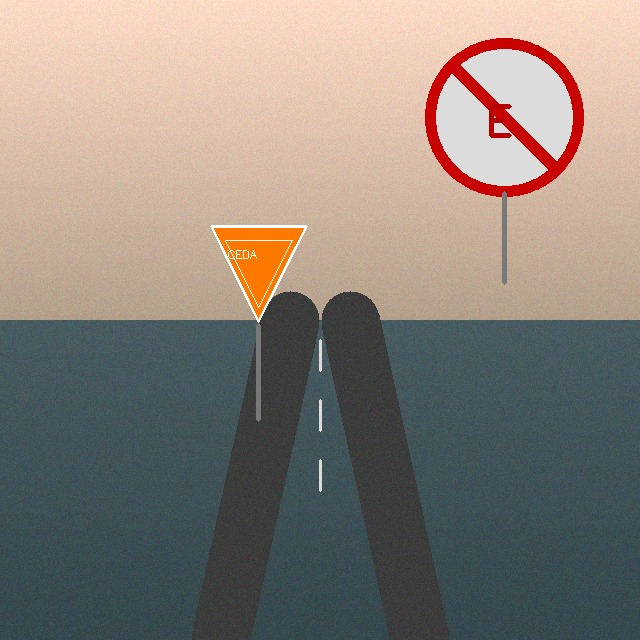ceda_el_paso: (207, 222, 310, 325)
no_estacionar: (428, 41, 580, 193)
